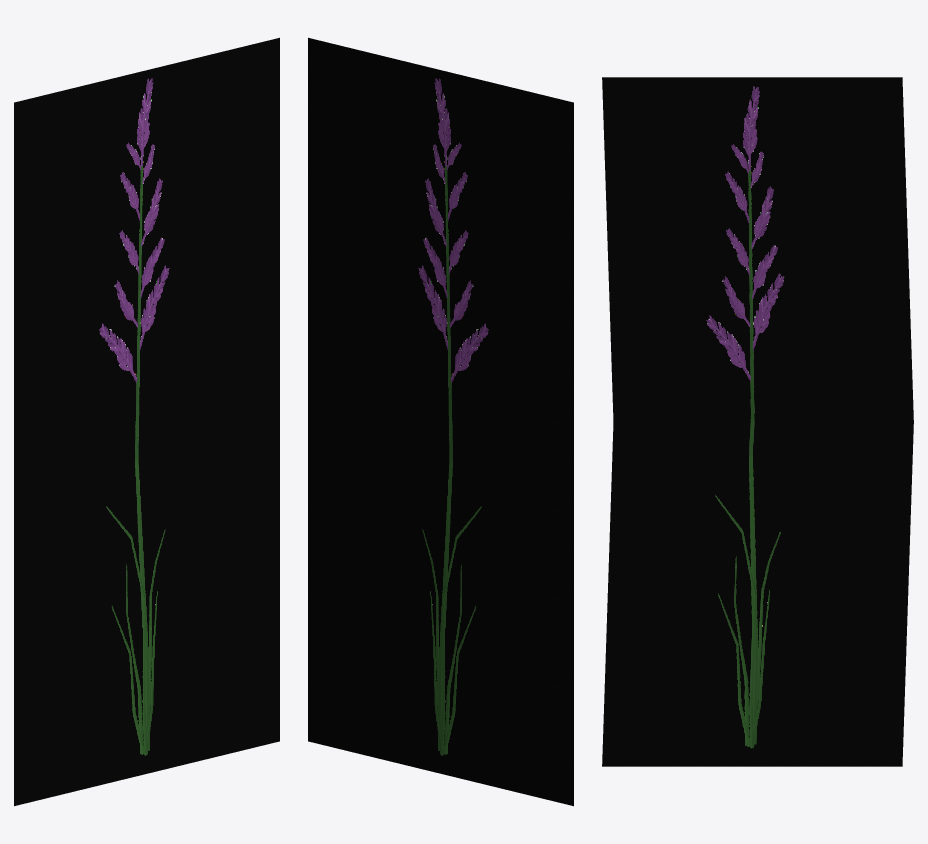
The model's file is Plant.fbx.
3 views of the same model, side by side, from view 1: azimuth 30°, elevation 25°; view 2: azimuth 150°, elevation 25°; view 3: azimuth 270°, elevation 25° (orthographic). The views are drawn at different scales.
Visible parts, largest first — view 1: Plane; view 2: Plane; view 3: Plane.001.
Part boxes in pixels (bbox=[...]): Plane: bbox=[14, 37, 279, 806]; Plane: bbox=[308, 37, 573, 806]; Plane.001: bbox=[602, 77, 913, 766].
Size of the model in its own units: 24.11 by 61.01 by 25.02.
Materials: 1 (1 with a texture image).
